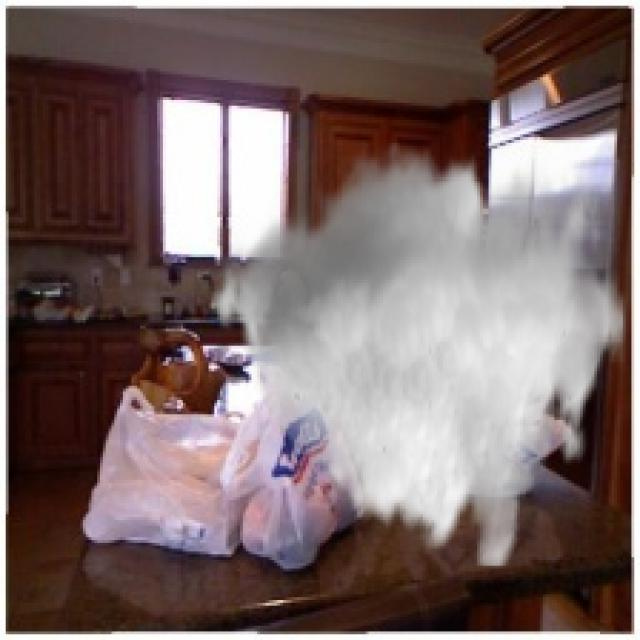smoke: (203, 143, 626, 568)
